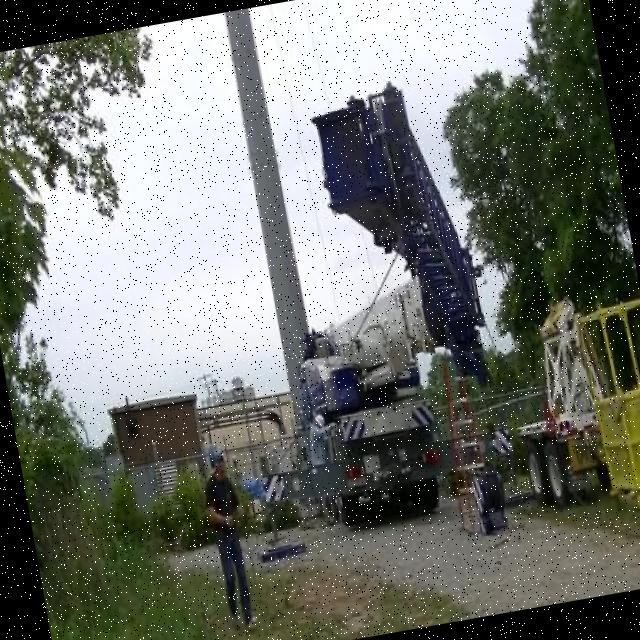Mobile Crane: (243, 76, 514, 538)
